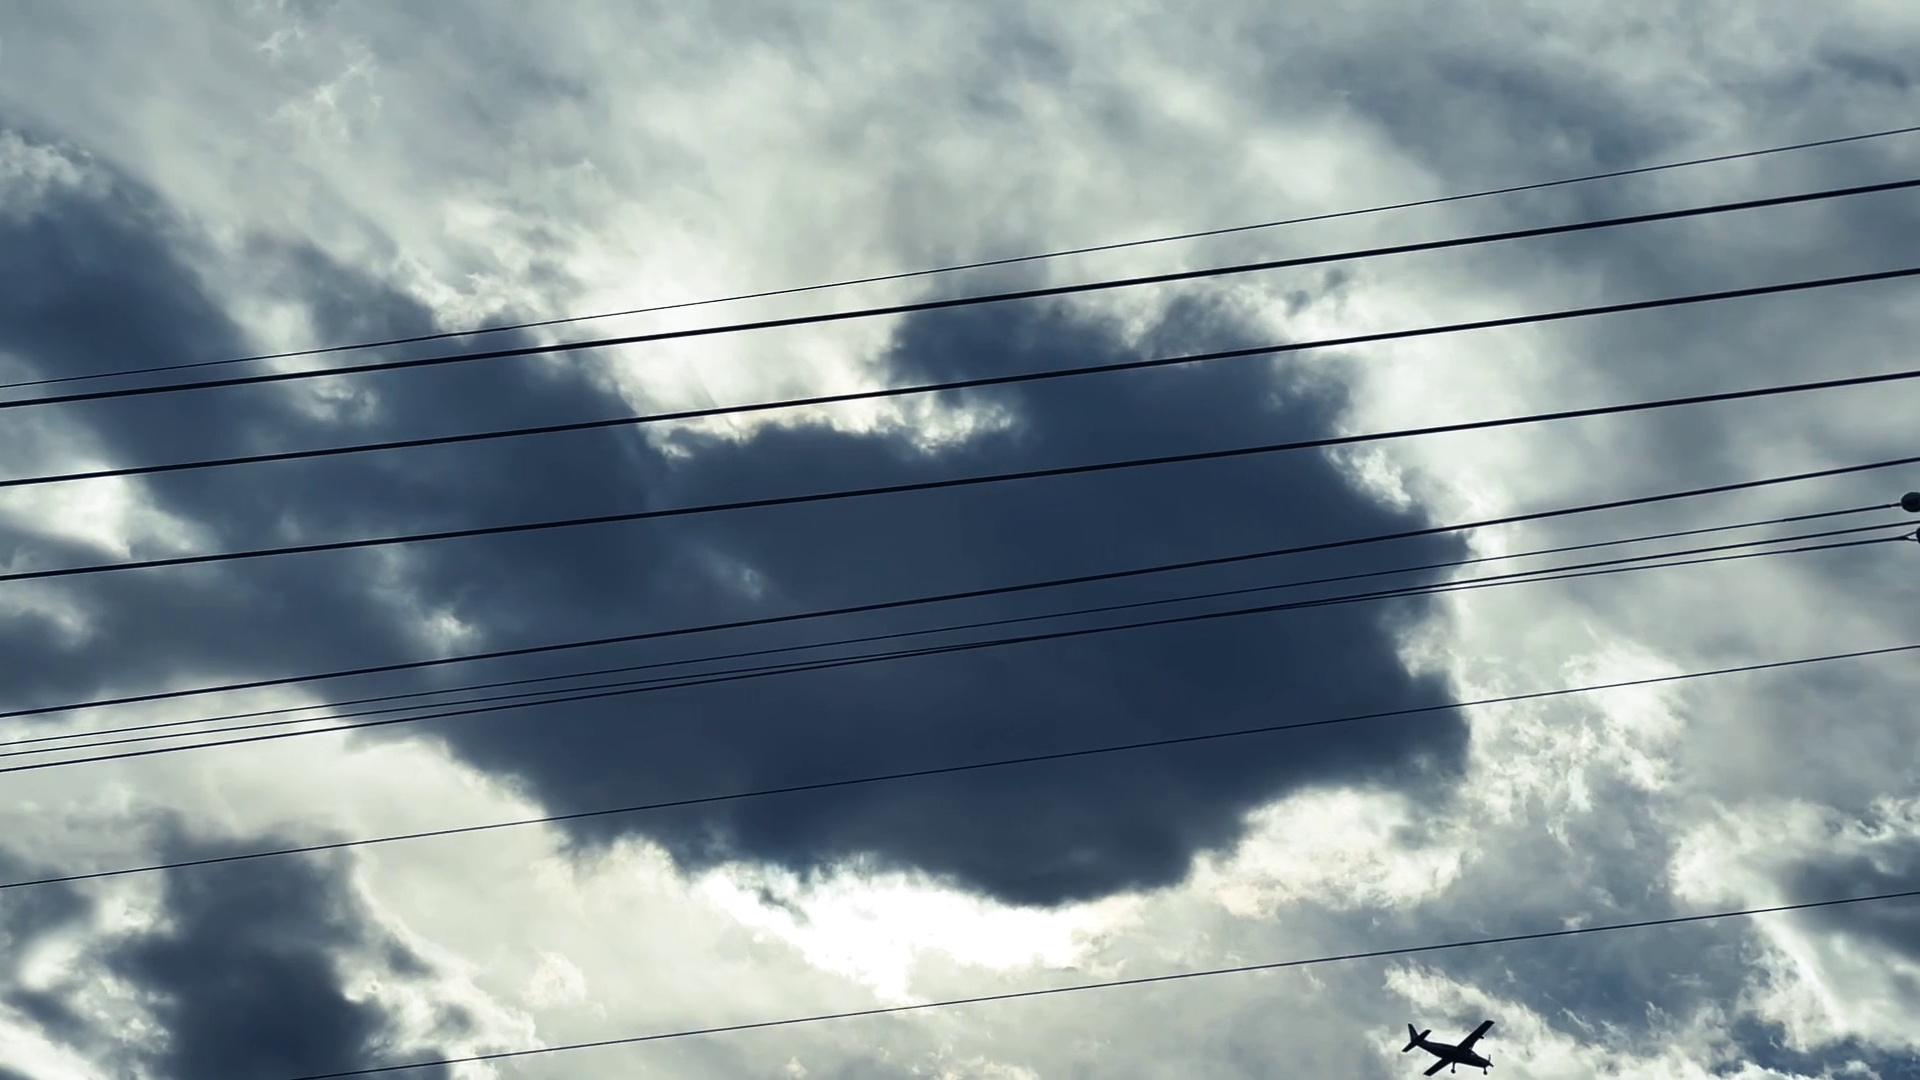plane: (1402, 1017, 1495, 1077)
